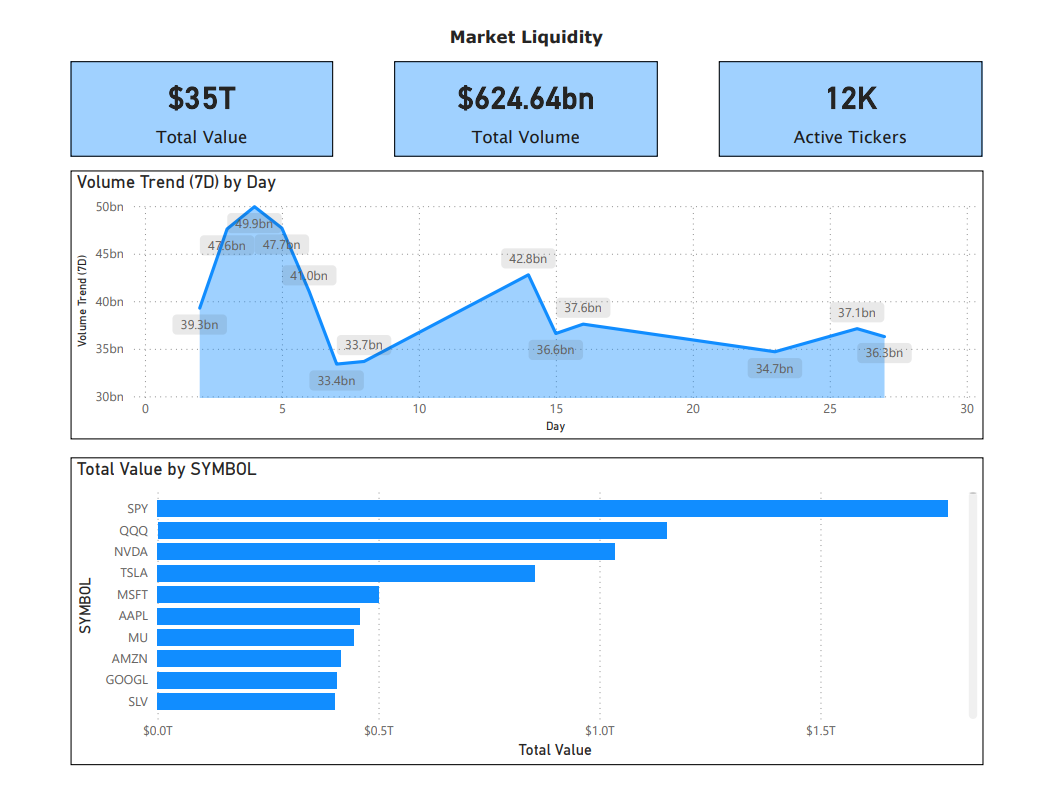

The dashboard page shown, as its layout file describes it:
{"tool":"powerbi","page":{"name":"Market Liquidity","canvas":[960,720],"ordinal":0},"visuals":[{"type":"card","fields":{"Values":["_Measures.Total Volume"]},"box":[354,38,251,91],"z":0},{"type":"card","fields":{"Values":["_Measures.Total Value"]},"box":[46,38,250,91],"z":1000},{"type":"card","fields":{"Values":["_Measures.Active Tickers"]},"box":[663,38,251,91],"z":2000},{"type":"areaChart","fields":{"Category":["dim_date.CAL_DATE.Variation.Date Hierarchy.Year","dim_date.CAL_DATE.Variation.Date Hierarchy.Quarter","dim_date.CAL_DATE.Variation.Date Hierarchy.Month","dim_date.CAL_DATE.Variation.Date Hierarchy.Day"],"Y":["_Measures.Volume Trend (7Days)"]},"box":[46.3,141.9,868.5,256.5],"z":3000},{"type":"barChart","fields":{"Category":["dim_security.SYMBOL"],"Y":["_Measures.Total Value"]},"box":[46.3,415.3,868.5,292.3],"z":4000},{"type":"textbox","box":[310,0,340,38],"z":4001}]}

Visuals, with their boxes in screenshot pixels (x1, y1, x2, y2), scaled from the page's 960x720 canvas onto the 1050x802 screenshot:
card - _Measures.Total Volume: Rect(387, 42, 662, 144)
card - _Measures.Total Value: Rect(50, 42, 324, 144)
card - _Measures.Active Tickers: Rect(725, 42, 1000, 144)
areaChart - dim_date.CAL_DATE.Variation.Date Hierarchy.Year x dim_date.CAL_DATE.Variation.Date Hierarchy.Quarter: Rect(51, 158, 1001, 444)
barChart - dim_security.SYMBOL x _Measures.Total Value: Rect(51, 463, 1001, 788)
textbox: Rect(339, 0, 711, 42)
